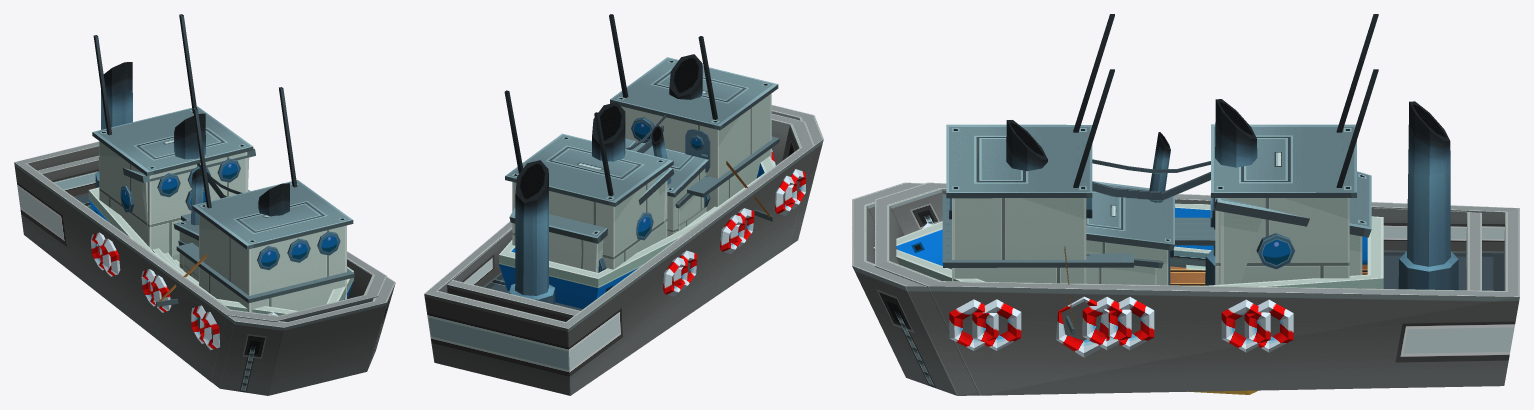
The model's file is boat_pack.fbx.
The picture shows the model from 3 angles, left to right: view 1: azimuth 30°, elevation 25°; view 2: azimuth 150°, elevation 25°; view 3: azimuth 270°, elevation 25°; orthographic projection. The views are drawn at different scales.
Parts seen in each view (by area): view 1: tanker_2, tanker, steamer, fishing_boat, speed_boat; view 2: tanker_2, tanker, steamer, fishing_boat, speed_boat; view 3: tanker_2, tanker, steamer, fishing_boat, speed_boat.
Part boxes in pixels (<box>): tanker_2: <box>14,87,395,395</box>; tanker: <box>37,14,386,382</box>; steamer: <box>88,148,353,315</box>; fishing_boat: <box>152,168,206,306</box>; speed_boat: <box>164,240,198,282</box>; tanker_2: <box>424,14,823,395</box>; tanker: <box>447,90,814,321</box>; steamer: <box>499,54,775,308</box>; fishing_boat: <box>625,125,773,236</box>; speed_boat: <box>675,175,708,231</box>; tanker_2: <box>852,14,1519,395</box>; tanker: <box>875,14,1481,395</box>; steamer: <box>873,120,1383,357</box>; fishing_boat: <box>948,132,1213,334</box>; speed_boat: <box>1086,246,1211,284</box>.
Size of the model in its own units: 11.49 by 13.33 by 25.92.
